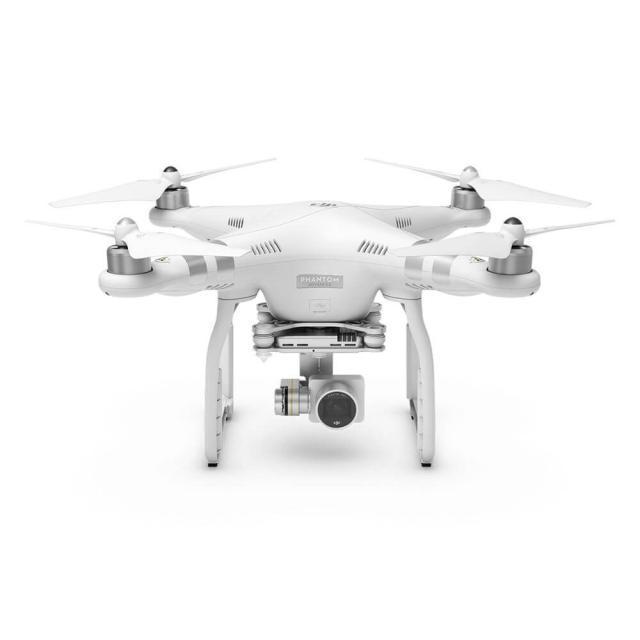drones: (14, 138, 640, 481)
